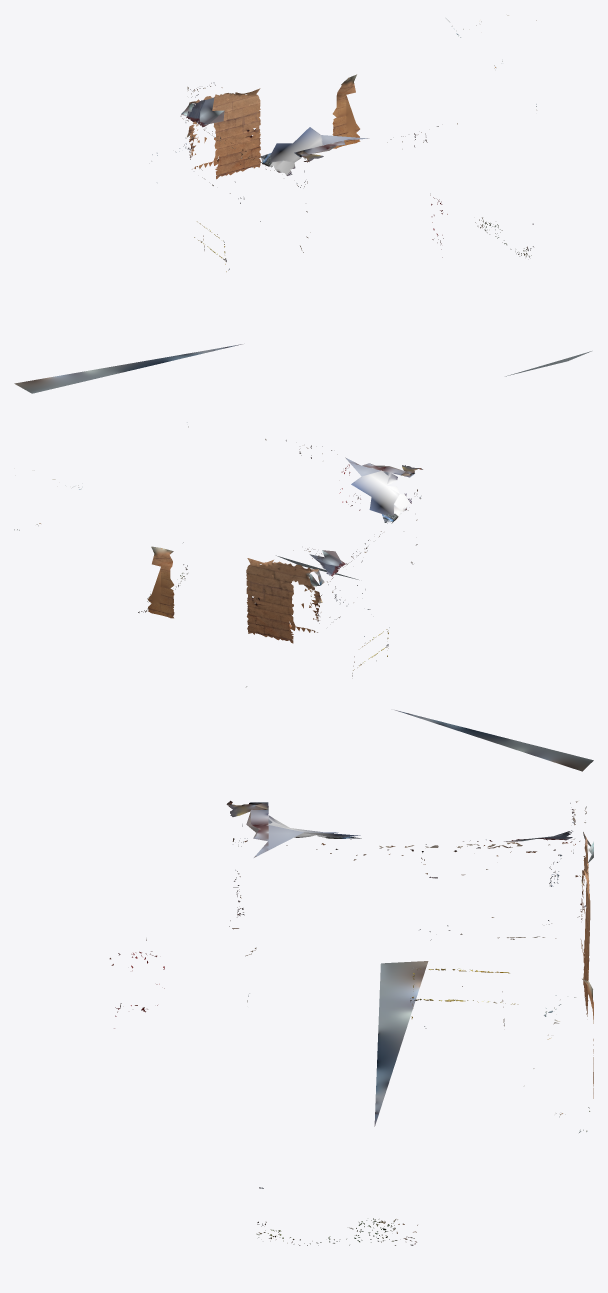
3 views of the same model, one above another, from view 1: azimuth 30°, elevation 25°; view 2: azimuth 150°, elevation 25°; view 3: azimuth 270°, elevation 25° (orthographic). The views are drawn at different scales.
Size of the model in its own units: 10.83 by 3.93 by 6.15.
1 material, 1 textured.
